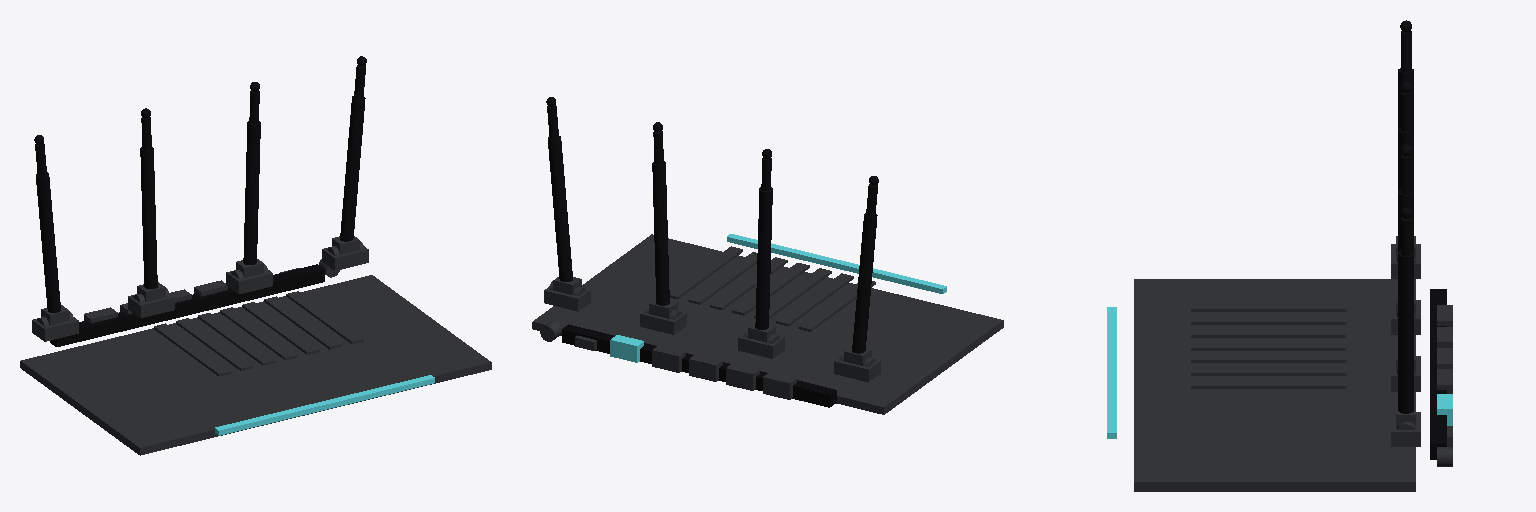
The robot description file, URDF, robot "internet_router_with_4_antennas":
<robot name="internet_router_with_4_antennas">
  <material name="body_black">
    <color rgba="0.12 0.12 0.13 1" />
    </material>
  <material name="trim_gray">
    <color rgba="0.23 0.24 0.25 1" />
    </material>
  <material name="rubber">
    <color rgba="0.05 0.05 0.06 1" />
    </material>
  <material name="led_glass">
    <color rgba="0.4 0.86 0.9 0.45" />
    </material>
  <material name="io_black">
    <color rgba="0.08 0.08 0.09 1" />
    </material>
  <material name="antenna_black">
    <color rgba="0.09 0.09 0.1 1" />
    </material>
  <link name="body">
    <inertial>
      <origin xyz="0 0 0.014" rpy="0 0 0" />
      <mass value="0.95" />
      <inertia ixx="0.00329238" ixy="0" ixz="0" iyy="0.00776847" iyz="0" izz="0.0109367" />
      </inertial>
    <visual name="shell">
      <geometry>
        <mesh filename="assets/meshes/router_body_shell.obj" />
        </geometry>
      <material name="body_black">
        <color rgba="0.12 0.12 0.13 1" />
        </material>
      </visual>
    <visual name="underside_plate">
      <origin xyz="0 0 0.003" rpy="0 0 0" />
      <geometry>
        <box size="0.286 0.168 0.006" />
        </geometry>
      <material name="trim_gray">
        <color rgba="0.23 0.24 0.25 1" />
        </material>
      </visual>
    <visual name="front_led_strip">
      <origin xyz="0 -0.097 0.011" rpy="0 0 0" />
      <geometry>
        <box size="0.176 0.006 0.004" />
        </geometry>
      <material name="led_glass">
        <color rgba="0.4 0.86 0.9 0.45" />
        </material>
      </visual>
    <visual name="rear_io_panel">
      <origin xyz="0 0.097 0.01" rpy="0 0 0" />
      <geometry>
        <box size="0.218 0.01 0.01" />
        </geometry>
      <material name="io_black">
        <color rgba="0.08 0.08 0.09 1" />
        </material>
      </visual>
    <visual name="lan_port_-0.068">
      <origin xyz="-0.068 0.101 0.012" rpy="0 0 0" />
      <geometry>
        <box size="0.022 0.01 0.013" />
        </geometry>
      <material name="trim_gray">
        <color rgba="0.23 0.24 0.25 1" />
        </material>
      </visual>
    <visual name="lan_port_-0.038">
      <origin xyz="-0.038 0.101 0.012" rpy="0 0 0" />
      <geometry>
        <box size="0.022 0.01 0.013" />
        </geometry>
      <material name="trim_gray">
        <color rgba="0.23 0.24 0.25 1" />
        </material>
      </visual>
    <visual name="lan_port_-0.008">
      <origin xyz="-0.008 0.101 0.012" rpy="0 0 0" />
      <geometry>
        <box size="0.022 0.01 0.013" />
        </geometry>
      <material name="trim_gray">
        <color rgba="0.23 0.24 0.25 1" />
        </material>
      </visual>
    <visual name="lan_port_+0.022">
      <origin xyz="0.022 0.101 0.012" rpy="0 0 0" />
      <geometry>
        <box size="0.022 0.01 0.013" />
        </geometry>
      <material name="trim_gray">
        <color rgba="0.23 0.24 0.25 1" />
        </material>
      </visual>
    <visual name="wan_port">
      <origin xyz="0.056 0.101 0.012" rpy="0 0 0" />
      <geometry>
        <box size="0.022 0.01 0.013" />
        </geometry>
      <material name="led_glass">
        <color rgba="0.4 0.86 0.9 0.45" />
        </material>
      </visual>
    <visual name="usb_port">
      <origin xyz="0.088 0.101 0.01" rpy="0 0 0" />
      <geometry>
        <box size="0.016 0.01 0.007" />
        </geometry>
      <material name="trim_gray">
        <color rgba="0.23 0.24 0.25 1" />
        </material>
      </visual>
    <visual name="power_jack">
      <origin xyz="0.118 0.101 0.011" rpy="1.5708 0 0" />
      <geometry>
        <cylinder radius="0.006" length="0.01" />
        </geometry>
      <material name="trim_gray">
        <color rgba="0.23 0.24 0.25 1" />
        </material>
      </visual>
    <visual name="foot_l_f">
      <origin xyz="-0.108 -0.065 0.002" rpy="0 0 0" />
      <geometry>
        <box size="0.032 0.018 0.004" />
        </geometry>
      <material name="rubber">
        <color rgba="0.05 0.05 0.06 1" />
        </material>
      </visual>
    <visual name="foot_l_b">
      <origin xyz="-0.108 0.065 0.002" rpy="0 0 0" />
      <geometry>
        <box size="0.032 0.018 0.004" />
        </geometry>
      <material name="rubber">
        <color rgba="0.05 0.05 0.06 1" />
        </material>
      </visual>
    <visual name="foot_r_f">
      <origin xyz="0.108 -0.065 0.002" rpy="0 0 0" />
      <geometry>
        <box size="0.032 0.018 0.004" />
        </geometry>
      <material name="rubber">
        <color rgba="0.05 0.05 0.06 1" />
        </material>
      </visual>
    <visual name="foot_r_b">
      <origin xyz="0.108 0.065 0.002" rpy="0 0 0" />
      <geometry>
        <box size="0.032 0.018 0.004" />
        </geometry>
      <material name="rubber">
        <color rgba="0.05 0.05 0.06 1" />
        </material>
      </visual>
    <visual name="vent_rib_-0.054">
      <origin xyz="-0.054 -0.004 0.029" rpy="0 0 0" />
      <geometry>
        <box size="0.01 0.092 0.002" />
        </geometry>
      <material name="trim_gray">
        <color rgba="0.23 0.24 0.25 1" />
        </material>
      </visual>
    <visual name="vent_rib_-0.036">
      <origin xyz="-0.036 -0.004 0.029" rpy="0 0 0" />
      <geometry>
        <box size="0.01 0.092 0.002" />
        </geometry>
      <material name="trim_gray">
        <color rgba="0.23 0.24 0.25 1" />
        </material>
      </visual>
    <visual name="vent_rib_-0.018">
      <origin xyz="-0.018 -0.004 0.029" rpy="0 0 0" />
      <geometry>
        <box size="0.01 0.092 0.002" />
        </geometry>
      <material name="trim_gray">
        <color rgba="0.23 0.24 0.25 1" />
        </material>
      </visual>
    <visual name="vent_rib_+0.000">
      <origin xyz="0 -0.004 0.029" rpy="0 0 0" />
      <geometry>
        <box size="0.01 0.092 0.002" />
        </geometry>
      <material name="trim_gray">
        <color rgba="0.23 0.24 0.25 1" />
        </material>
      </visual>
    <visual name="vent_rib_+0.018">
      <origin xyz="0.018 -0.004 0.029" rpy="0 0 0" />
      <geometry>
        <box size="0.01 0.092 0.002" />
        </geometry>
      <material name="trim_gray">
        <color rgba="0.23 0.24 0.25 1" />
        </material>
      </visual>
    <visual name="vent_rib_+0.036">
      <origin xyz="0.036 -0.004 0.029" rpy="0 0 0" />
      <geometry>
        <box size="0.01 0.092 0.002" />
        </geometry>
      <material name="trim_gray">
        <color rgba="0.23 0.24 0.25 1" />
        </material>
      </visual>
    <visual name="vent_rib_+0.054">
      <origin xyz="0.054 -0.004 0.029" rpy="0 0 0" />
      <geometry>
        <box size="0.01 0.092 0.002" />
        </geometry>
      <material name="trim_gray">
        <color rgba="0.23 0.24 0.25 1" />
        </material>
      </visual>
    <visual name="antenna_left_outer_pedestal">
      <origin xyz="-0.118 0.078 0.029" rpy="0 0 0" />
      <geometry>
        <box size="0.028 0.018 0.01" />
        </geometry>
      <material name="trim_gray">
        <color rgba="0.23 0.24 0.25 1" />
        </material>
      </visual>
    <visual name="antenna_left_inner_pedestal">
      <origin xyz="-0.04 0.078 0.029" rpy="0 0 0" />
      <geometry>
        <box size="0.028 0.018 0.01" />
        </geometry>
      <material name="trim_gray">
        <color rgba="0.23 0.24 0.25 1" />
        </material>
      </visual>
    <visual name="antenna_right_inner_pedestal">
      <origin xyz="0.04 0.078 0.029" rpy="0 0 0" />
      <geometry>
        <box size="0.028 0.018 0.01" />
        </geometry>
      <material name="trim_gray">
        <color rgba="0.23 0.24 0.25 1" />
        </material>
      </visual>
    <visual name="antenna_right_outer_pedestal">
      <origin xyz="0.118 0.078 0.029" rpy="0 0 0" />
      <geometry>
        <box size="0.028 0.018 0.01" />
        </geometry>
      <material name="trim_gray">
        <color rgba="0.23 0.24 0.25 1" />
        </material>
      </visual>
    </link>
  <link name="antenna_left_outer">
    <inertial>
      <origin xyz="0 0 0.07" rpy="0 0 0" />
      <mass value="0.06" />
      <inertia ixx="9.8375e-05" ixy="0" ixz="0" iyy="9.8375e-05" iyz="0" izz="7.5e-07" />
      </inertial>
    <visual name="hinge_barrel">
      <origin xyz="0 0 0" rpy="0 1.5708 0" />
      <geometry>
        <cylinder radius="0.006" length="0.024" />
        </geometry>
      <material name="trim_gray">
        <color rgba="0.23 0.24 0.25 1" />
        </material>
      </visual>
    <visual name="hinge_collar">
      <origin xyz="0 0 0.006" rpy="0 0 0" />
      <geometry>
        <box size="0.016 0.012 0.008" />
        </geometry>
      <material name="trim_gray">
        <color rgba="0.23 0.24 0.25 1" />
        </material>
      </visual>
    <visual name="main_mast">
      <origin xyz="-0.00557247 0 0.0617491" rpy="0 -0.09 0" />
      <geometry>
        <cylinder radius="0.0048" length="0.112" />
        </geometry>
      <material name="antenna_black">
        <color rgba="0.09 0.09 0.1 1" />
        </material>
      </visual>
    <visual name="upper_tip">
      <origin xyz="-0.0116842 0 0.129474" rpy="0 -0.09 0" />
      <geometry>
        <cylinder radius="0.0034" length="0.024" />
        </geometry>
      <material name="antenna_black">
        <color rgba="0.09 0.09 0.1 1" />
        </material>
      </visual>
    <visual name="end_cap">
      <origin xyz="-0.0130863 0 0.145011" rpy="0 0 0" />
      <geometry>
        <sphere radius="0.0036" />
        </geometry>
      <material name="antenna_black">
        <color rgba="0.09 0.09 0.1 1" />
        </material>
      </visual>
    </link>
  <link name="antenna_left_inner">
    <inertial>
      <origin xyz="0 0 0.07" rpy="0 0 0" />
      <mass value="0.06" />
      <inertia ixx="9.8375e-05" ixy="0" ixz="0" iyy="9.8375e-05" iyz="0" izz="7.5e-07" />
      </inertial>
    <visual name="hinge_barrel">
      <origin xyz="0 0 0" rpy="0 1.5708 0" />
      <geometry>
        <cylinder radius="0.006" length="0.024" />
        </geometry>
      <material name="trim_gray">
        <color rgba="0.23 0.24 0.25 1" />
        </material>
      </visual>
    <visual name="hinge_collar">
      <origin xyz="0 0 0.006" rpy="0 0 0" />
      <geometry>
        <box size="0.016 0.012 0.008" />
        </geometry>
      <material name="trim_gray">
        <color rgba="0.23 0.24 0.25 1" />
        </material>
      </visual>
    <visual name="main_mast">
      <origin xyz="-0.00185972 0 0.0619721" rpy="0 -0.03 0" />
      <geometry>
        <cylinder radius="0.0048" length="0.112" />
        </geometry>
      <material name="antenna_black">
        <color rgba="0.09 0.09 0.1 1" />
        </material>
      </visual>
    <visual name="upper_tip">
      <origin xyz="-0.00389942 0 0.129942" rpy="0 -0.03 0" />
      <geometry>
        <cylinder radius="0.0034" length="0.024" />
        </geometry>
      <material name="antenna_black">
        <color rgba="0.09 0.09 0.1 1" />
        </material>
      </visual>
    <visual name="end_cap">
      <origin xyz="-0.00436734 0 0.145534" rpy="0 0 0" />
      <geometry>
        <sphere radius="0.0036" />
        </geometry>
      <material name="antenna_black">
        <color rgba="0.09 0.09 0.1 1" />
        </material>
      </visual>
    </link>
  <link name="antenna_right_inner">
    <inertial>
      <origin xyz="0 0 0.07" rpy="0 0 0" />
      <mass value="0.06" />
      <inertia ixx="9.8375e-05" ixy="0" ixz="0" iyy="9.8375e-05" iyz="0" izz="7.5e-07" />
      </inertial>
    <visual name="hinge_barrel">
      <origin xyz="0 0 0" rpy="0 1.5708 0" />
      <geometry>
        <cylinder radius="0.006" length="0.024" />
        </geometry>
      <material name="trim_gray">
        <color rgba="0.23 0.24 0.25 1" />
        </material>
      </visual>
    <visual name="hinge_collar">
      <origin xyz="0 0 0.006" rpy="0 0 0" />
      <geometry>
        <box size="0.016 0.012 0.008" />
        </geometry>
      <material name="trim_gray">
        <color rgba="0.23 0.24 0.25 1" />
        </material>
      </visual>
    <visual name="main_mast">
      <origin xyz="0.00185972 0 0.0619721" rpy="0 0.03 0" />
      <geometry>
        <cylinder radius="0.0048" length="0.112" />
        </geometry>
      <material name="antenna_black">
        <color rgba="0.09 0.09 0.1 1" />
        </material>
      </visual>
    <visual name="upper_tip">
      <origin xyz="0.00389942 0 0.129942" rpy="0 0.03 0" />
      <geometry>
        <cylinder radius="0.0034" length="0.024" />
        </geometry>
      <material name="antenna_black">
        <color rgba="0.09 0.09 0.1 1" />
        </material>
      </visual>
    <visual name="end_cap">
      <origin xyz="0.00436734 0 0.145534" rpy="0 0 0" />
      <geometry>
        <sphere radius="0.0036" />
        </geometry>
      <material name="antenna_black">
        <color rgba="0.09 0.09 0.1 1" />
        </material>
      </visual>
    </link>
  <link name="antenna_right_outer">
    <inertial>
      <origin xyz="0 0 0.07" rpy="0 0 0" />
      <mass value="0.06" />
      <inertia ixx="9.8375e-05" ixy="0" ixz="0" iyy="9.8375e-05" iyz="0" izz="7.5e-07" />
      </inertial>
    <visual name="hinge_barrel">
      <origin xyz="0 0 0" rpy="0 1.5708 0" />
      <geometry>
        <cylinder radius="0.006" length="0.024" />
        </geometry>
      <material name="trim_gray">
        <color rgba="0.23 0.24 0.25 1" />
        </material>
      </visual>
    <visual name="hinge_collar">
      <origin xyz="0 0 0.006" rpy="0 0 0" />
      <geometry>
        <box size="0.016 0.012 0.008" />
        </geometry>
      <material name="trim_gray">
        <color rgba="0.23 0.24 0.25 1" />
        </material>
      </visual>
    <visual name="main_mast">
      <origin xyz="0.00557247 0 0.0617491" rpy="0 0.09 0" />
      <geometry>
        <cylinder radius="0.0048" length="0.112" />
        </geometry>
      <material name="antenna_black">
        <color rgba="0.09 0.09 0.1 1" />
        </material>
      </visual>
    <visual name="upper_tip">
      <origin xyz="0.0116842 0 0.129474" rpy="0 0.09 0" />
      <geometry>
        <cylinder radius="0.0034" length="0.024" />
        </geometry>
      <material name="antenna_black">
        <color rgba="0.09 0.09 0.1 1" />
        </material>
      </visual>
    <visual name="end_cap">
      <origin xyz="0.0130863 0 0.145011" rpy="0 0 0" />
      <geometry>
        <sphere radius="0.0036" />
        </geometry>
      <material name="antenna_black">
        <color rgba="0.09 0.09 0.1 1" />
        </material>
      </visual>
    </link>
  <joint name="body_to_antenna_left_outer" type="revolute">
    <origin xyz="-0.118 0.078 0.032" rpy="0 0 0" />
    <parent link="body" />
    <child link="antenna_left_outer" />
    <axis xyz="1 0 0" />
    <limit effort="1.5" velocity="2.5" lower="-1.15" upper="0.35" />
    </joint>
  <joint name="body_to_antenna_left_inner" type="revolute">
    <origin xyz="-0.04 0.078 0.032" rpy="0 0 0" />
    <parent link="body" />
    <child link="antenna_left_inner" />
    <axis xyz="1 0 0" />
    <limit effort="1.5" velocity="2.5" lower="-1.15" upper="0.35" />
    </joint>
  <joint name="body_to_antenna_right_inner" type="revolute">
    <origin xyz="0.04 0.078 0.032" rpy="0 0 0" />
    <parent link="body" />
    <child link="antenna_right_inner" />
    <axis xyz="1 0 0" />
    <limit effort="1.5" velocity="2.5" lower="-1.15" upper="0.35" />
    </joint>
  <joint name="body_to_antenna_right_outer" type="revolute">
    <origin xyz="0.118 0.078 0.032" rpy="0 0 0" />
    <parent link="body" />
    <child link="antenna_right_outer" />
    <axis xyz="1 0 0" />
    <limit effort="1.5" velocity="2.5" lower="-1.15" upper="0.35" />
    </joint>
  </robot>

--- Render facts (derived) ---
The picture shows the robot from 3 angles, left to right: view 1: azimuth 30°, elevation 25°; view 2: azimuth 150°, elevation 25°; view 3: azimuth 270°, elevation 25°; orthographic projection.
Robot: internet_router_with_4_antennas — 5 links, 4 joints (4 revolute); root link body; default pose: all joints at 0.
Visible links, largest first — view 1: body, antenna_right_outer, antenna_right_inner, antenna_left_inner, antenna_left_outer; view 2: body, antenna_right_outer, antenna_right_inner, antenna_left_inner, antenna_left_outer; view 3: body, antenna_right_outer, antenna_left_inner, antenna_right_inner, antenna_left_outer.
Boxes of the visible links, <box> form: body: <box>20,246,491,455</box>; antenna_right_outer: <box>327,56,366,255</box>; antenna_right_inner: <box>231,82,267,278</box>; antenna_left_inner: <box>133,108,169,302</box>; antenna_left_outer: <box>34,135,73,326</box>; body: <box>532,234,1003,414</box>; antenna_right_outer: <box>546,97,585,295</box>; antenna_right_inner: <box>645,122,681,319</box>; antenna_left_inner: <box>743,149,779,343</box>; antenna_left_outer: <box>839,176,878,366</box>; body: <box>1107,244,1452,491</box>; antenna_right_outer: <box>1396,207,1415,429</box>; antenna_left_inner: <box>1396,81,1415,317</box>; antenna_right_inner: <box>1396,144,1415,374</box>; antenna_left_outer: <box>1396,20,1415,262</box>.
Bounding box of the posed robot: 0.286 × 0.206 × 0.1811 m (x, y, z).
0 mesh visuals loaded from 1 distinct referenced files (none loaded); not drawn: 1 (reference not matched to a file when rendering).
